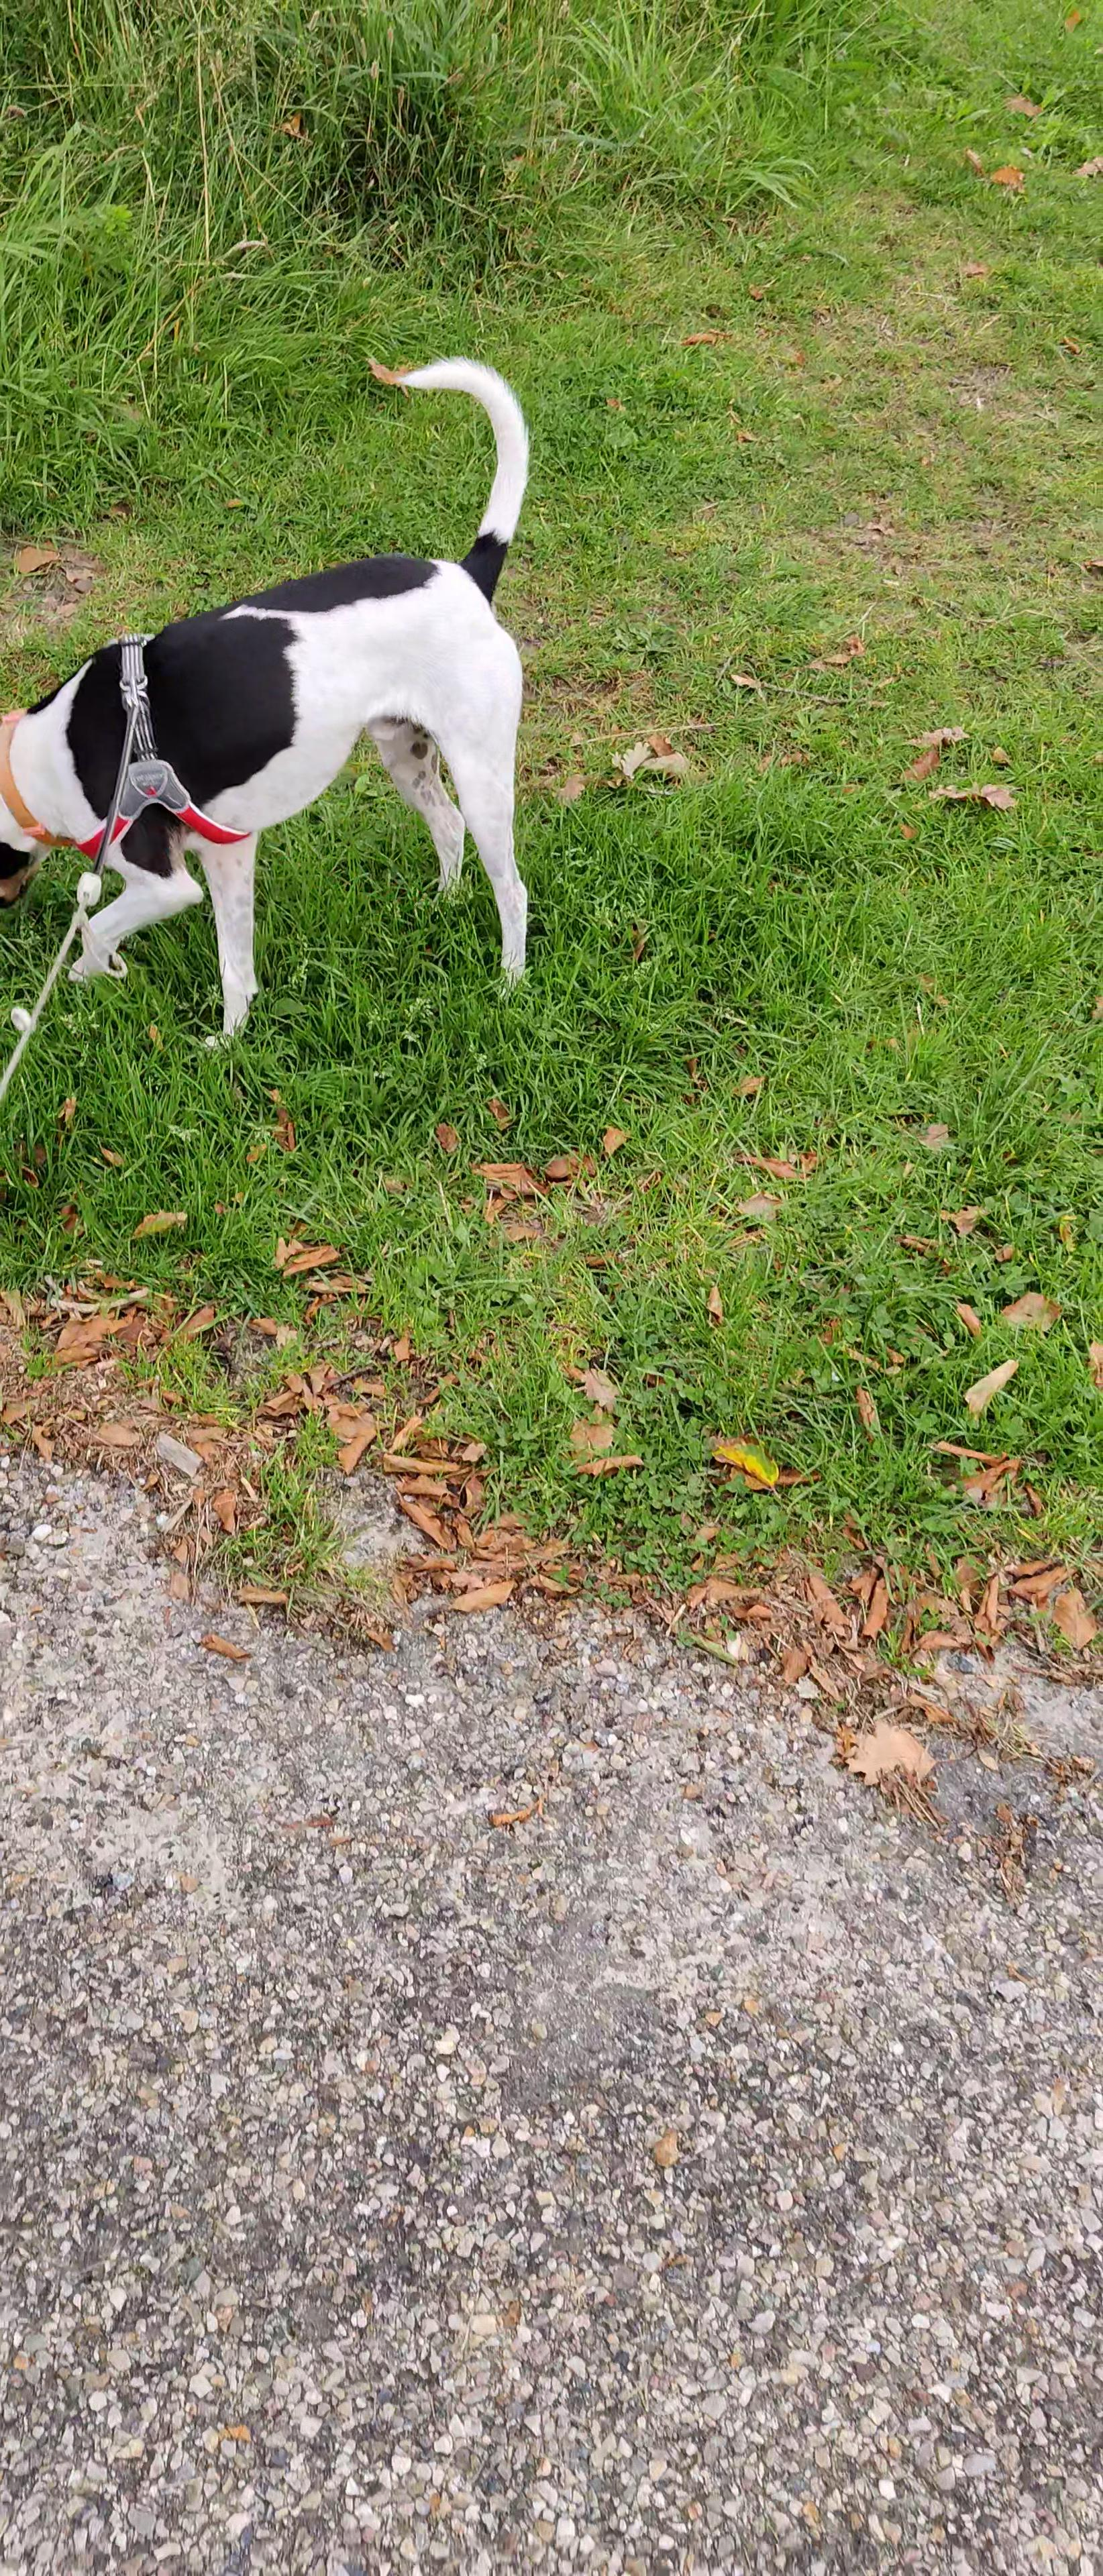Dog: (0, 337, 552, 1068)
